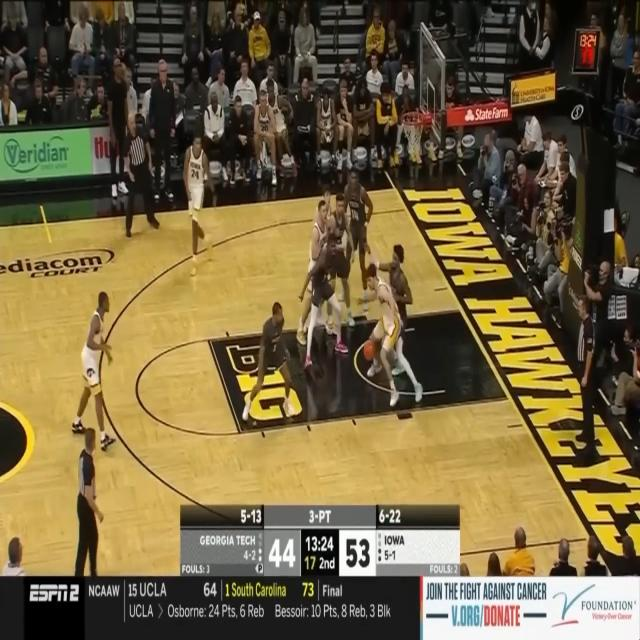Ball: (364, 339, 376, 362)
Clock: (572, 29, 601, 74)
Hoop: (400, 108, 427, 162)
Overlay: (0, 575, 640, 640), (180, 505, 460, 577)
Player: (364, 240, 422, 402), (71, 290, 116, 450), (297, 232, 348, 368), (356, 264, 401, 408), (242, 300, 294, 420), (296, 199, 338, 346), (337, 166, 374, 313), (182, 128, 218, 277), (326, 196, 356, 334), (311, 185, 334, 301)
Ref: (72, 425, 104, 592), (122, 110, 161, 238), (576, 295, 600, 457)
Scoreboard: (180, 530, 460, 576)
